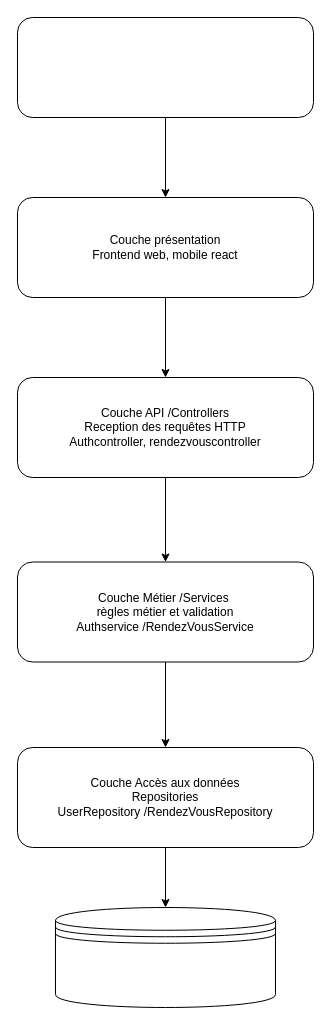
The diagram is 331 pixels wide and 1025 high, and some of its shapes have lost their labels. The shapes that lost their labels are listed below. From the top down, each one's centre as x and y in pixels, then its label:
At pixel 165 67: "Utilisateurs Patient, médecin, secrétaire, admin".
At pixel 165 957: "Base de données MySQL".
